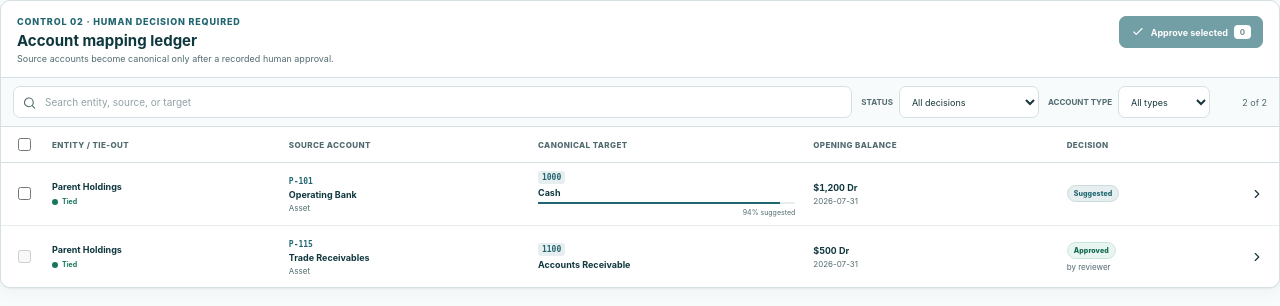
Test case: MappingLedger › filters by query and mapping decision state
In the search field named "Search account mappings": point(433, 102) [13,86,852,118], type "P-115"
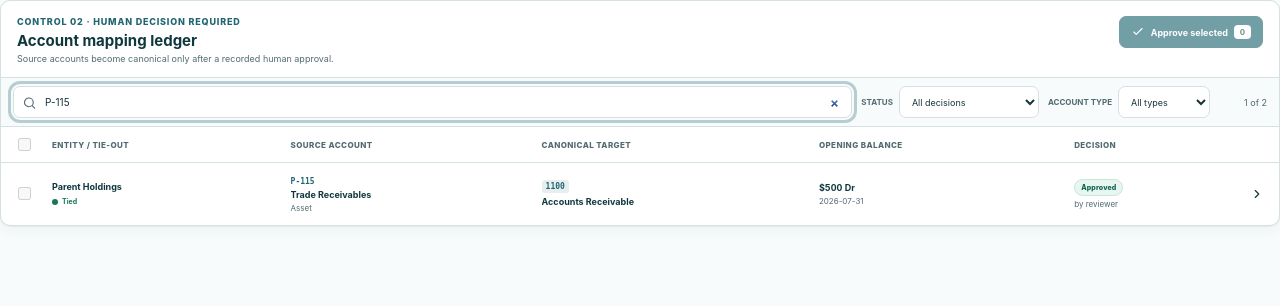
Check: the text "Trade Receivables" is shown, box [291,189,371,200]
Check: the text "Operating Bank" is gone
Clear the search field named "Search account mappings": point(433, 102) [13,86,852,118]
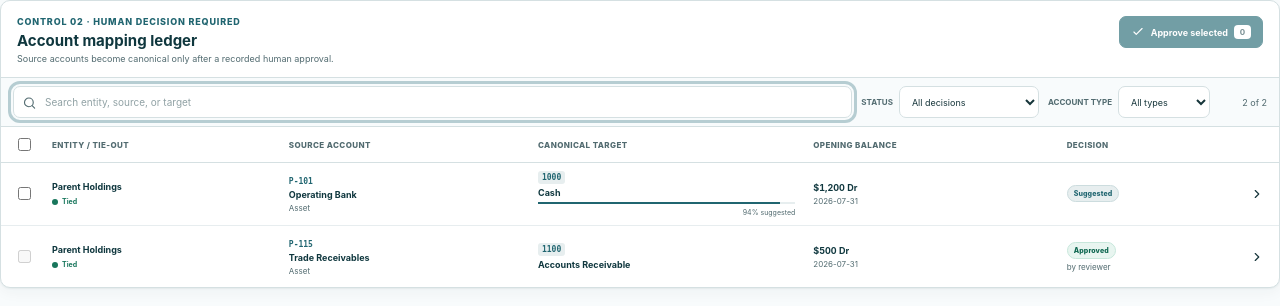
Select "Needs review" in the dropdown named "Filter by mapping status": point(969, 102) [899,86,1039,118]
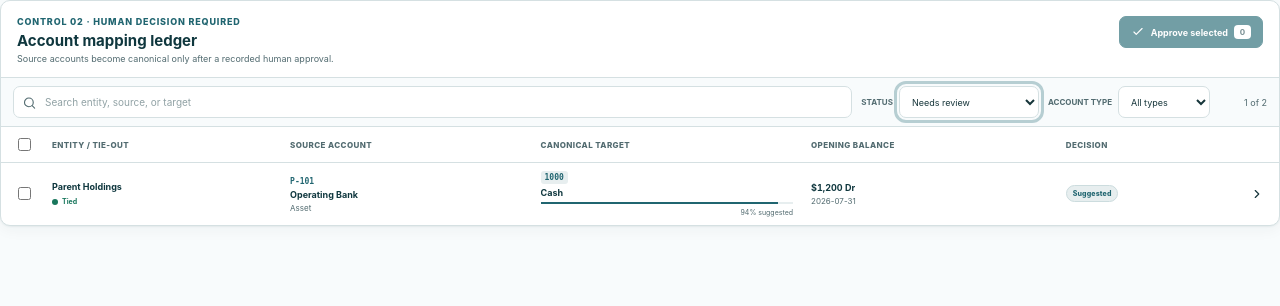
Check: the text "Operating Bank" is shown, box [290,189,358,200]
Check: the text "Trade Receivables" is gone
